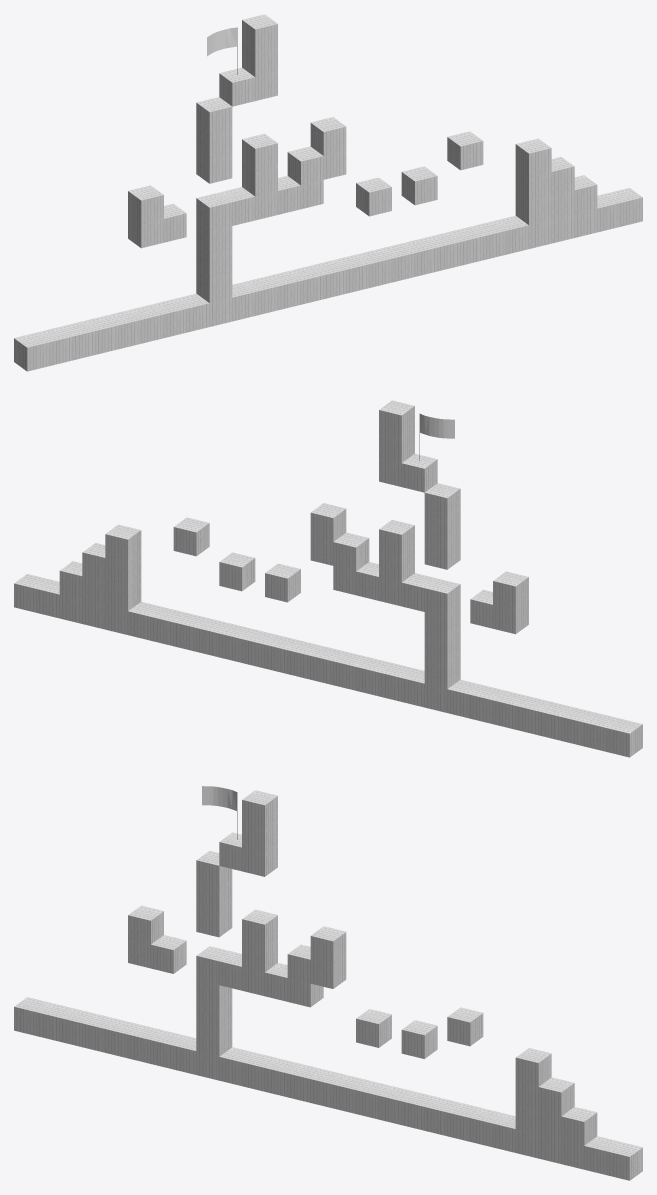
File: DemoViewStage3.obj
3 views of the same model, one above another, from view 1: azimuth 30°, elevation 25°; view 2: azimuth 150°, elevation 25°; view 3: azimuth 330°, elevation 25° (orthographic).
Parts seen in each view (by area): view 1: 平面.001; view 2: 平面.001; view 3: 平面.001.
Part boxes in pixels (box(x1,y1,x2,y2)): 平面.001: box(14, 14, 642, 371); 平面.001: box(14, 400, 642, 757); 平面.001: box(14, 786, 642, 1180).
Size of the model in its own units: 54 by 24 by 2.
1 material, 1 textured.
